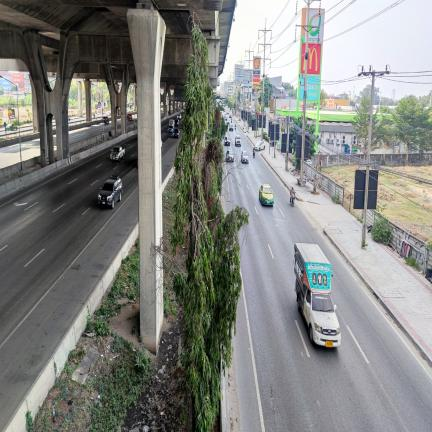car: (298, 285, 341, 347), (98, 176, 122, 209), (254, 141, 265, 151), (225, 150, 234, 162), (241, 150, 249, 163), (6, 123, 18, 130), (173, 128, 179, 138), (224, 137, 230, 146), (174, 119, 179, 127), (229, 124, 234, 131), (177, 113, 182, 119), (160, 140, 163, 148), (229, 115, 232, 118), (319, 274, 322, 277), (317, 281, 318, 281)
motorbike: (290, 194, 295, 207), (253, 150, 255, 158), (235, 125, 236, 130)
pickup: (294, 243, 341, 347), (110, 146, 125, 161), (235, 135, 242, 146), (126, 113, 133, 120)
taxi: (259, 184, 274, 206)
truck: (168, 119, 174, 133)
van: (101, 116, 109, 124)
